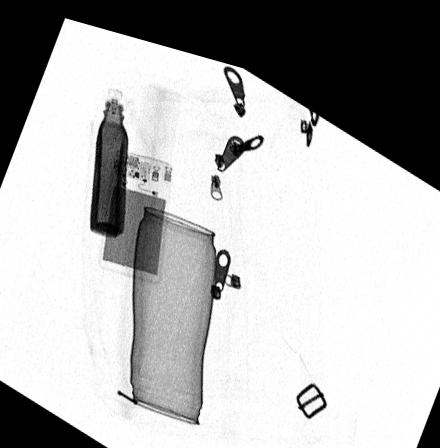Powerbank: (99, 141, 173, 275)
